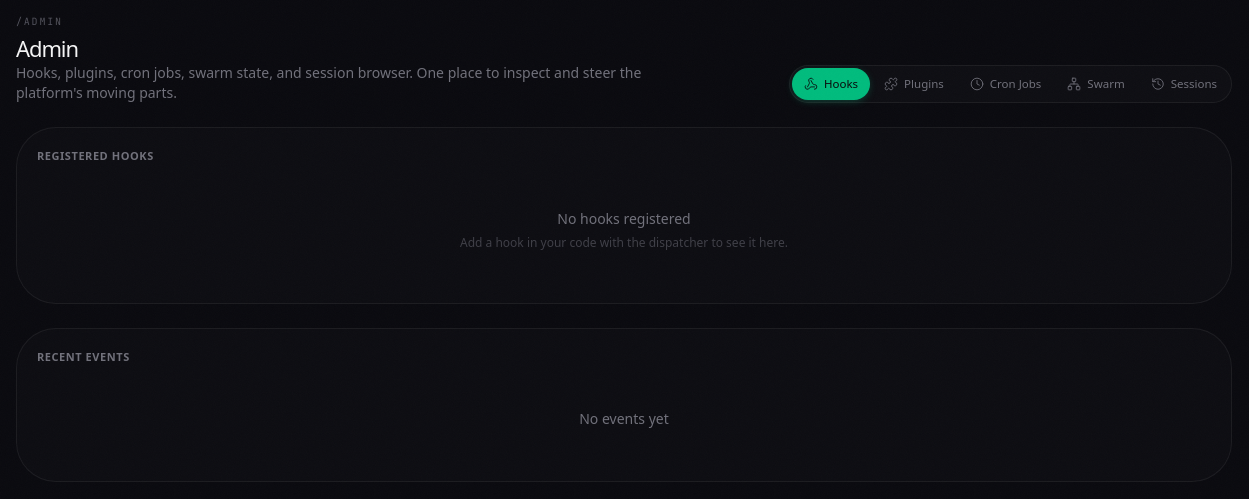
Test case: Admin Page › shows empty state for Cron when no jobs
Click the button "Cron Jobs" at {"x": 1006, "y": 84}, box [958,68,1053,100]
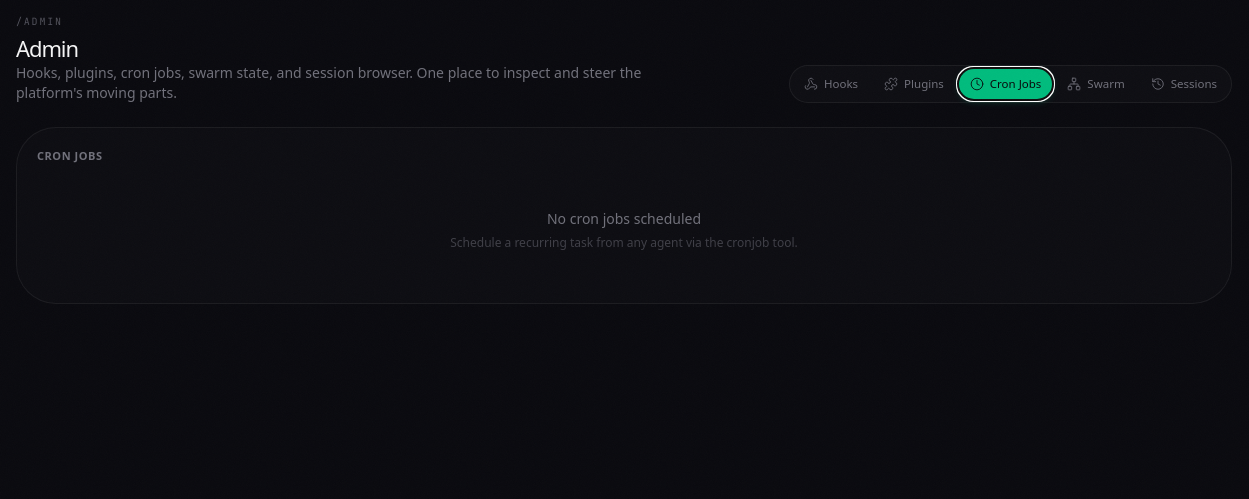
Check: the text "No cron jobs scheduled" is shown, box [547,208,701,228]
